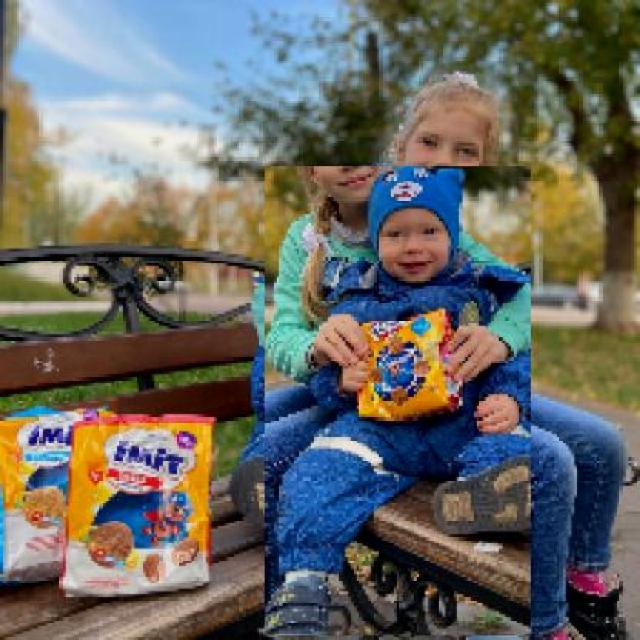child: (263, 166, 531, 637)
